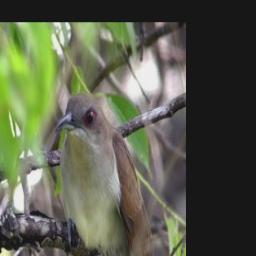Cuckoo: (55, 91, 156, 256)
